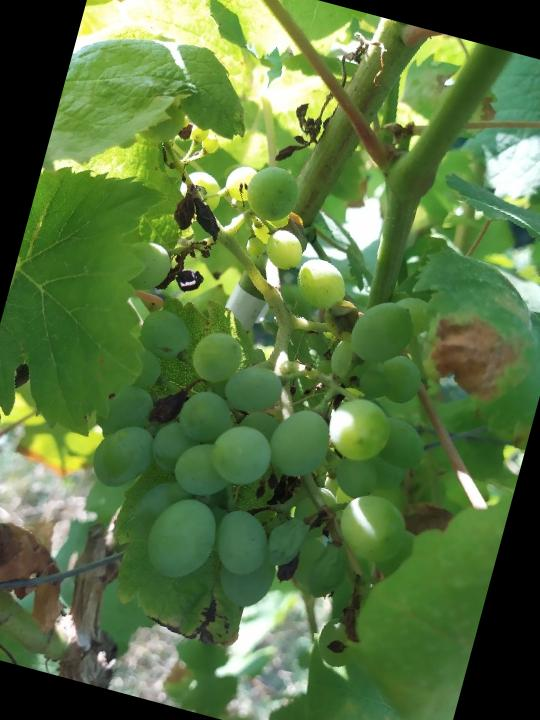grape: (51, 136, 496, 647)
